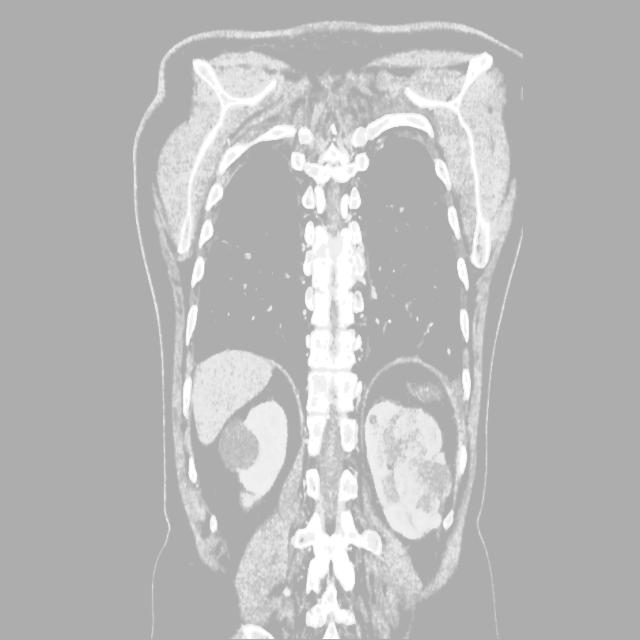TUMOR: (155, 311, 491, 596)
